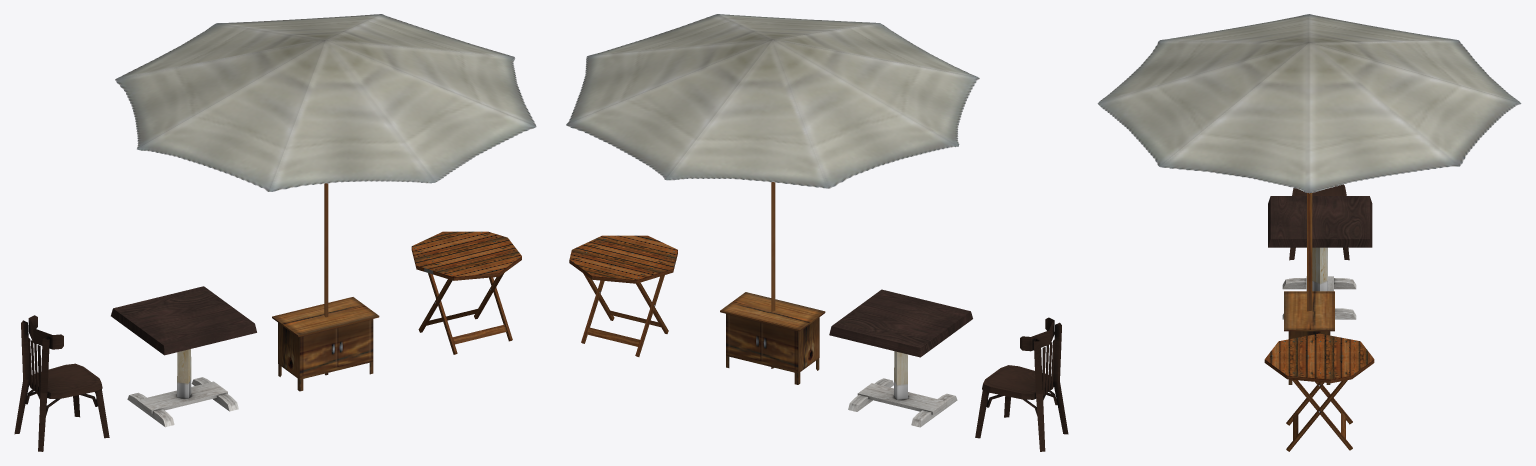
Rendered from cafe_props_LOD.FBX.
3 renders of one model, left to right at view 1: azimuth 30°, elevation 25°; view 2: azimuth 150°, elevation 25°; view 3: azimuth 270°, elevation 25°, orthographic. The views are drawn at different scales.
Parts seen in each view (by area): view 1: parasol, table_01, table_02, chaise_01; view 2: parasol, table_01, table_02, chaise_01; view 3: parasol, table_01, table_02, chaise_01.
Boxes of the visible parts, box(x1,y1,x2,y2) form: parasol: box(115, 14, 536, 391); table_01: box(111, 286, 256, 427); table_02: box(411, 231, 521, 354); chaise_01: box(14, 315, 109, 451); parasol: box(566, 14, 979, 384); table_01: box(829, 289, 972, 427); table_02: box(569, 235, 677, 356); chaise_01: box(975, 317, 1068, 451); parasol: box(1097, 14, 1521, 384); table_01: box(1268, 196, 1372, 319); table_02: box(1264, 333, 1374, 451); chaise_01: box(1289, 184, 1349, 260).
Bounding box in the file's own units: 424 × 279 × 329.
Materials: 4 (4 with a texture image).
